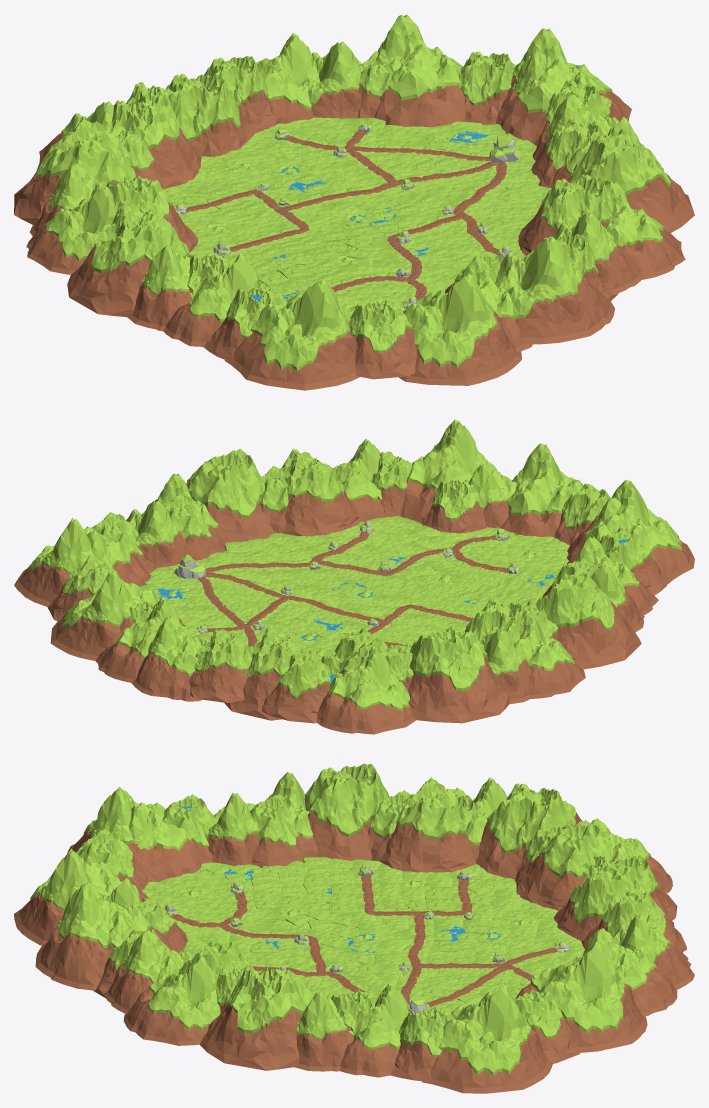
The picture shows the model from 3 angles, top to bottom: view 1: azimuth 30°, elevation 25°; view 2: azimuth 150°, elevation 25°; view 3: azimuth 270°, elevation 25°; orthographic projection. The views are drawn at different scales.
Parts seen in each view (by area): view 1: PP_Meadow_Path_05.049, PP_Rock_Moss_Grown_11.008; view 2: PP_Meadow_Path_05.049, PP_Rock_Moss_Grown_11.008; view 3: PP_Meadow_Path_05.049.
Part boxes in pixels (x1=…): PP_Meadow_Path_05.049: x1=14, y1=14, x2=694, y2=390; PP_Rock_Moss_Grown_11.008: x1=489, y1=135, x2=521, y2=161; PP_Meadow_Path_05.049: x1=14, y1=419, x2=694, y2=734; PP_Rock_Moss_Grown_11.008: x1=174, y1=554, x2=205, y2=578; PP_Meadow_Path_05.049: x1=14, y1=763, x2=694, y2=1093.
Size of the model in its own units: 520 by 74.3 by 524.
Materials: 2 (1 with a texture image).
